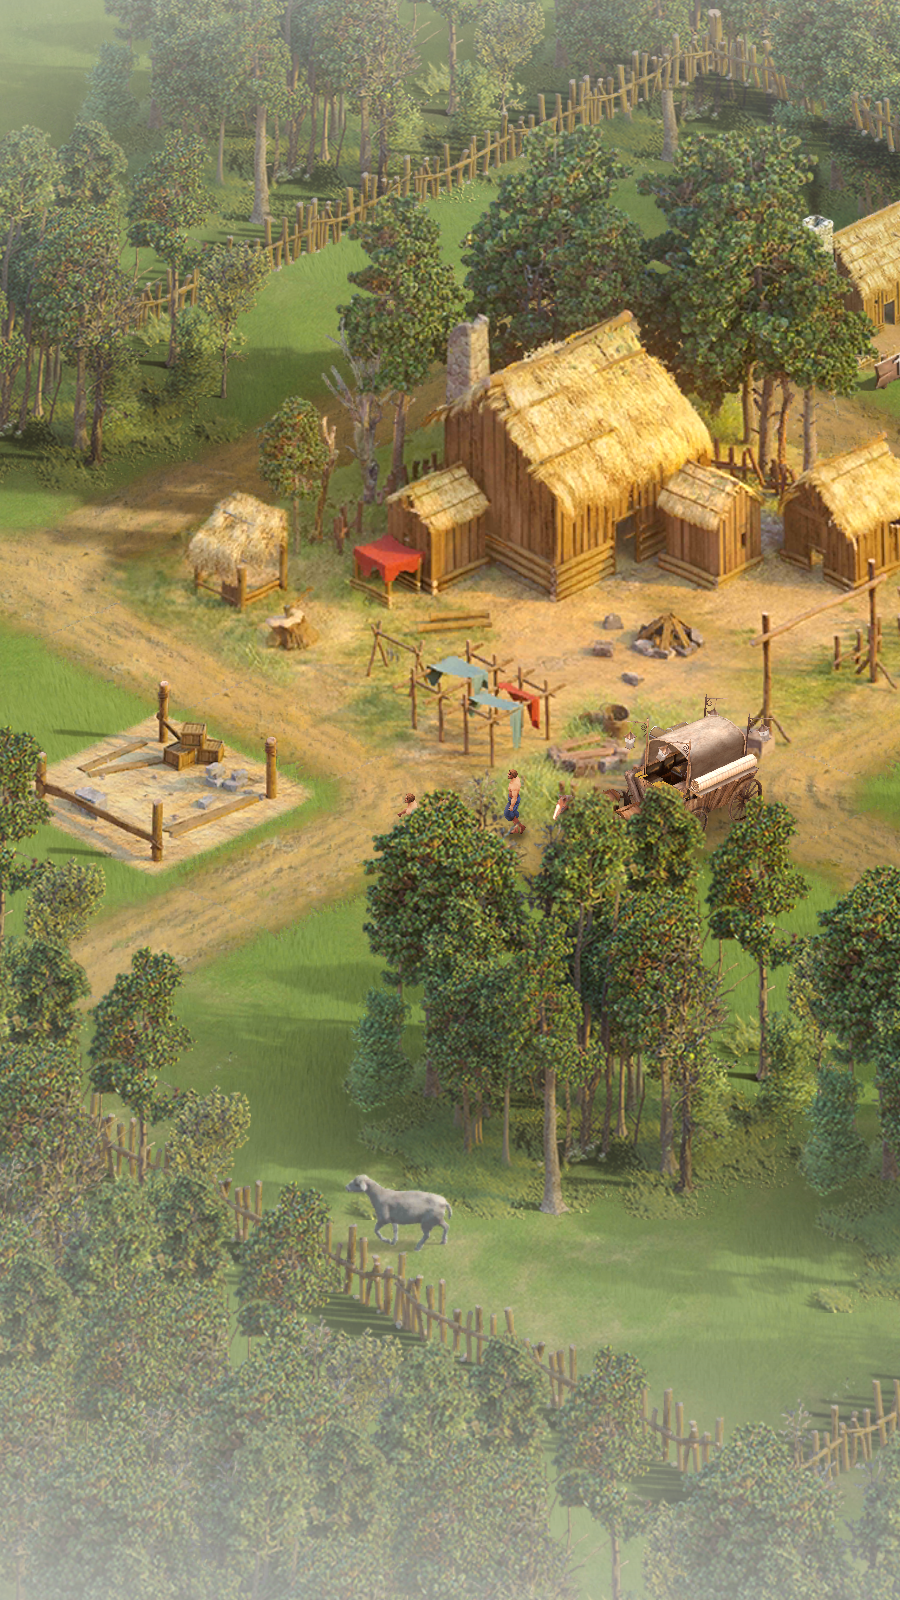WAY: (0, 453, 440, 988)
border: (233, 19, 700, 284)
house: (447, 303, 692, 593), (775, 422, 889, 588)
trees: (360, 816, 900, 1196), (0, 53, 237, 473), (0, 962, 184, 1433), (713, 110, 838, 463), (327, 205, 453, 442)
